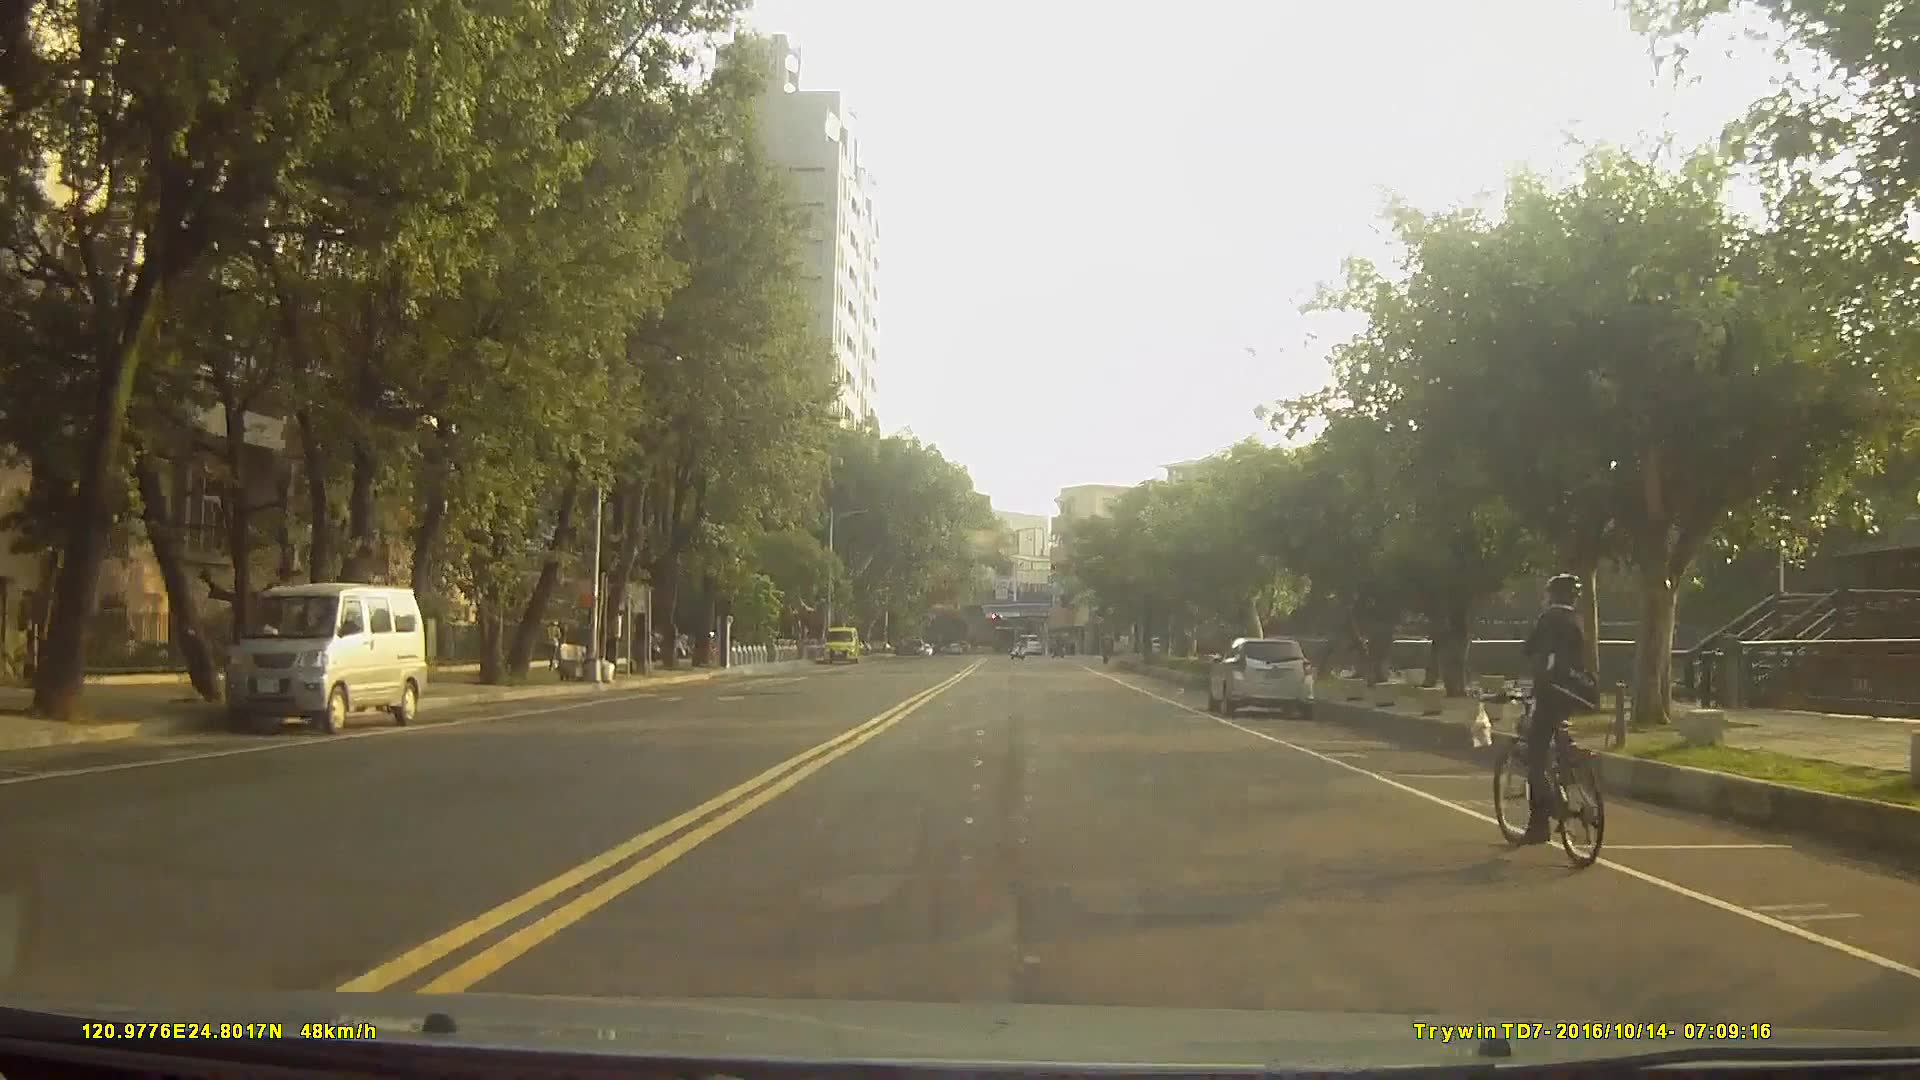rider: (1489, 569, 1611, 870)
vehicle: (215, 578, 428, 735), (1209, 634, 1318, 718), (1016, 631, 1043, 656)
